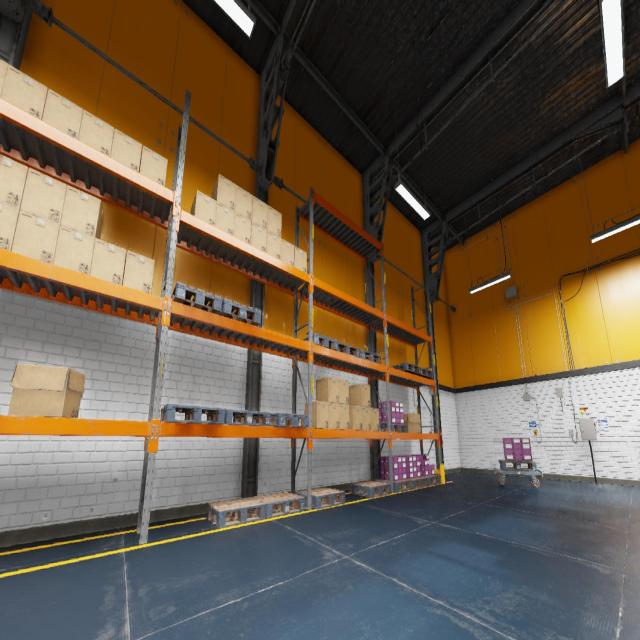box: (8, 363, 85, 418), (20, 167, 67, 225), (0, 64, 48, 120), (11, 210, 60, 264), (60, 185, 102, 239), (53, 225, 95, 275), (42, 89, 83, 140), (78, 110, 115, 156), (90, 238, 126, 285), (0, 154, 28, 209), (110, 128, 142, 172), (122, 250, 154, 293), (140, 145, 168, 186), (190, 190, 217, 226), (0, 202, 19, 251), (211, 174, 236, 211), (215, 202, 235, 236), (235, 185, 253, 220), (305, 401, 328, 428), (316, 376, 339, 403), (252, 196, 268, 230), (234, 212, 251, 244), (267, 205, 282, 238), (349, 384, 370, 407), (251, 222, 267, 252), (266, 230, 281, 260), (402, 413, 421, 433), (281, 238, 294, 266), (294, 246, 307, 273), (0, 59, 8, 97), (350, 405, 362, 430), (339, 404, 350, 429), (329, 402, 339, 429), (339, 379, 349, 404), (370, 408, 380, 431), (362, 407, 371, 430)
pallets: (206, 497, 266, 528), (172, 282, 222, 314), (252, 492, 305, 518), (160, 404, 226, 424), (219, 298, 261, 326), (298, 487, 346, 509), (224, 409, 271, 426), (352, 481, 392, 497), (270, 412, 309, 428), (303, 332, 337, 350), (378, 479, 413, 492), (329, 342, 359, 357), (353, 349, 381, 364), (499, 460, 537, 471), (390, 362, 421, 375), (407, 476, 428, 488), (380, 424, 408, 432), (415, 366, 433, 378), (421, 475, 441, 485)
